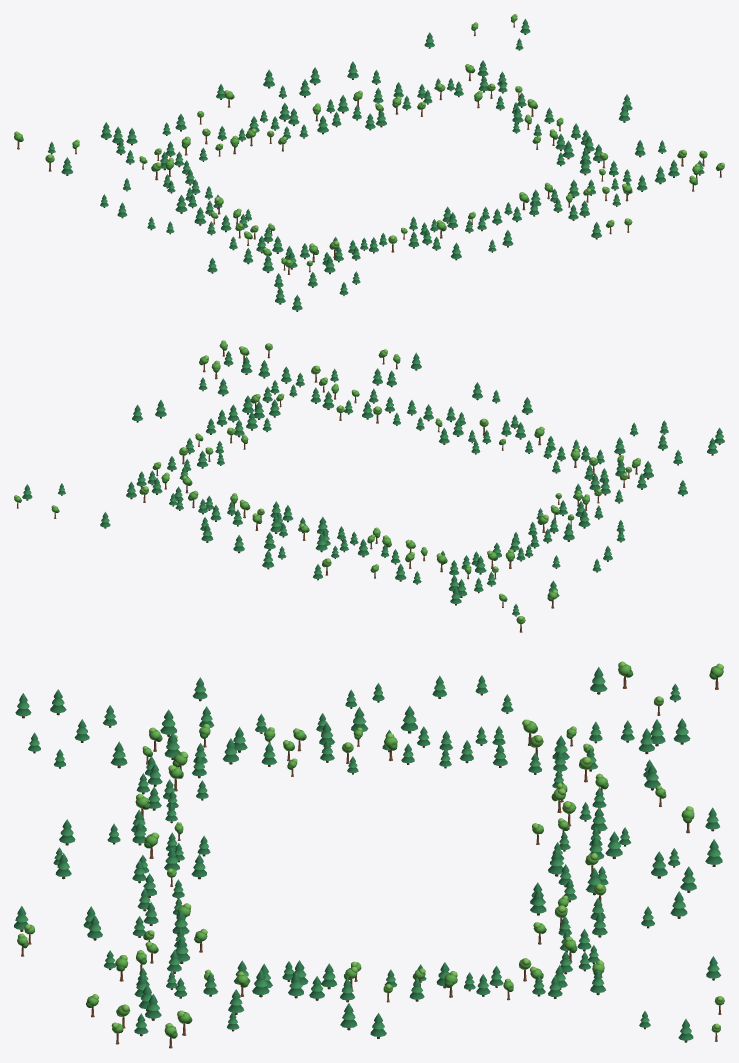
Rendered from level_2_forest.glb.
3 renders of one model, top to bottom at view 1: azimuth 30°, elevation 25°; view 2: azimuth 150°, elevation 25°; view 3: azimuth 270°, elevation 25°, orthographic. The views are drawn at different scales.
Visible parts, largest first — view 1: Ring_m2_m2, Ring_0_m2, Ring_1_1, Ring_m1_m2, Ring_m2_1, Ring_1_m2, Ring_m1_1, Ring_0_1, Ring_1_0, Ring_2_1, Ring_m2_0, Ring_m3_m1 (+6 smaller); view 2: Ring_1_1, Ring_m2_m2, Ring_m2_1, Ring_1_m2, Ring_0_m2, Ring_m1_m2, Ring_m1_1, Ring_0_1, Ring_1_0, Ring_2_1, Ring_m2_0, Ring_m3_m1 (+6 smaller); view 3: Ring_1_1, Ring_m2_1, Ring_m2_m2, Ring_0_m2, Ring_m1_m2, Ring_1_m2, Ring_m1_1, Ring_0_1, Ring_m2_0, Ring_2_1, Ring_1_0, Ring_m3_m1 (+8 smaller).
Boxes of the visible parts, box(x1,y1,x2,y2) form: Ring_m2_m2: box(112, 114, 239, 176); Ring_0_m2: box(299, 70, 411, 130); Ring_1_1: box(544, 160, 632, 220); Ring_m1_m2: box(197, 102, 328, 151); Ring_m2_1: box(281, 237, 368, 287); Ring_1_m2: box(393, 60, 507, 116); Ring_m1_1: box(369, 212, 457, 253); Ring_0_1: box(442, 189, 541, 233); Ring_1_0: box(532, 129, 608, 175); Ring_2_1: box(637, 149, 724, 191); Ring_m2_0: box(233, 208, 283, 253); Ring_m3_m1: box(100, 174, 196, 230); Ring_1_1: box(262, 365, 396, 420); Ring_m2_m2: box(395, 539, 498, 597); Ring_m2_1: box(543, 434, 667, 482); Ring_1_m2: box(126, 470, 237, 521); Ring_0_m2: box(200, 499, 309, 550); Ring_m1_m2: box(315, 516, 400, 578); Ring_m1_1: box(452, 415, 555, 454); Ring_0_1: box(362, 397, 465, 444); Ring_1_0: box(227, 394, 280, 449); Ring_2_1: box(199, 340, 291, 383); Ring_m2_0: box(536, 473, 610, 520); Ring_m3_m1: box(516, 522, 625, 572); Ring_1_1: box(83, 906, 218, 998); Ring_m2_1: box(74, 719, 208, 807); Ring_m2_m2: box(528, 719, 665, 813); Ring_0_m2: box(530, 851, 667, 935); Ring_m1_m2: box(532, 785, 666, 876); Ring_1_m2: box(519, 912, 607, 996); Ring_m1_1: box(107, 786, 210, 870); Ring_0_1: box(132, 854, 206, 934); Ring_m2_0: box(223, 727, 358, 776); Ring_2_1: box(86, 974, 192, 1048); Ring_1_0: box(234, 960, 361, 997); Ring_m3_m1: box(372, 675, 513, 747).
Size of the model in its own units: 57.56 by 2.95 by 47.87.
1 material, 1 textured.
